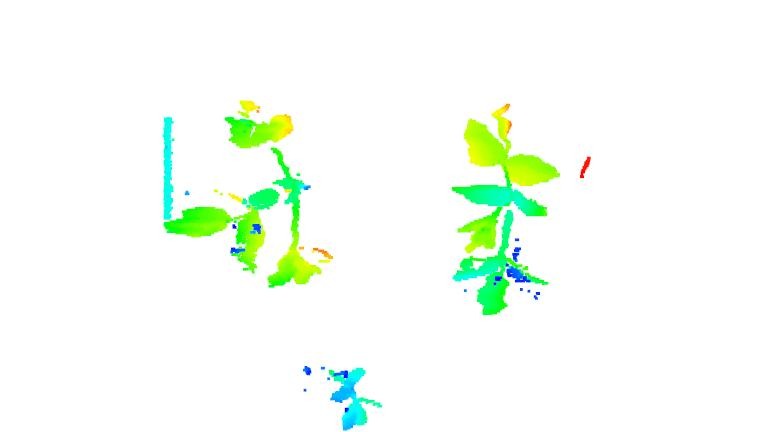mungbean: (165, 100, 333, 285), (440, 97, 566, 317), (311, 360, 390, 430)
